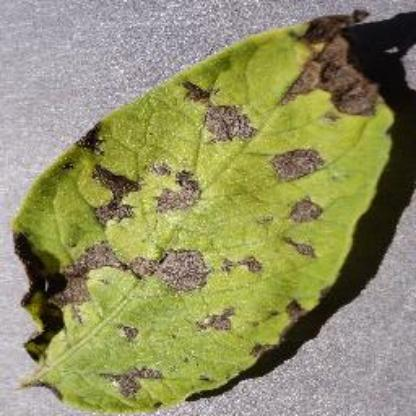Early-Blight: (9, 8, 394, 414)
